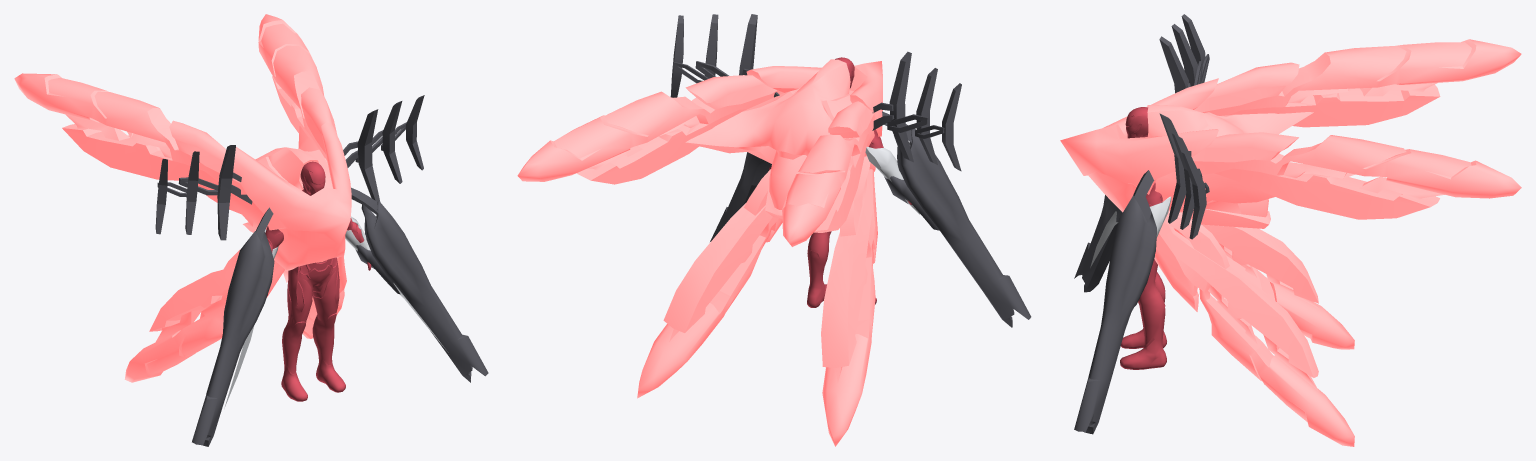
File: antman.glb
3 renders of one model, left to right at view 1: azimuth 30°, elevation 25°; view 2: azimuth 150°, elevation 25°; view 3: azimuth 270°, elevation 25°, orthographic. The views are drawn at different scales.
Visible parts, largest first — view 1: Object_5, Object_4, Object_2, Object_3; view 2: Object_5, Object_4, Object_2, Object_3; view 3: Object_5, Object_4, Object_2, Object_3.
Part boxes in pixels (x1,y1,x2,y2): Object_5: (14, 14, 351, 382); Object_4: (155, 95, 488, 446); Object_2: (265, 161, 371, 401); Object_3: (224, 216, 448, 408); Object_5: (517, 59, 882, 446); Object_4: (670, 14, 1031, 327); Object_2: (769, 57, 911, 307); Object_3: (865, 146, 919, 214); Object_5: (1060, 39, 1521, 446); Object_4: (1074, 14, 1209, 434); Object_2: (1120, 107, 1166, 369); Object_3: (1090, 196, 1171, 267).
Bounding box in the file's own units: 1.88 × 1.8 × 2.34.
